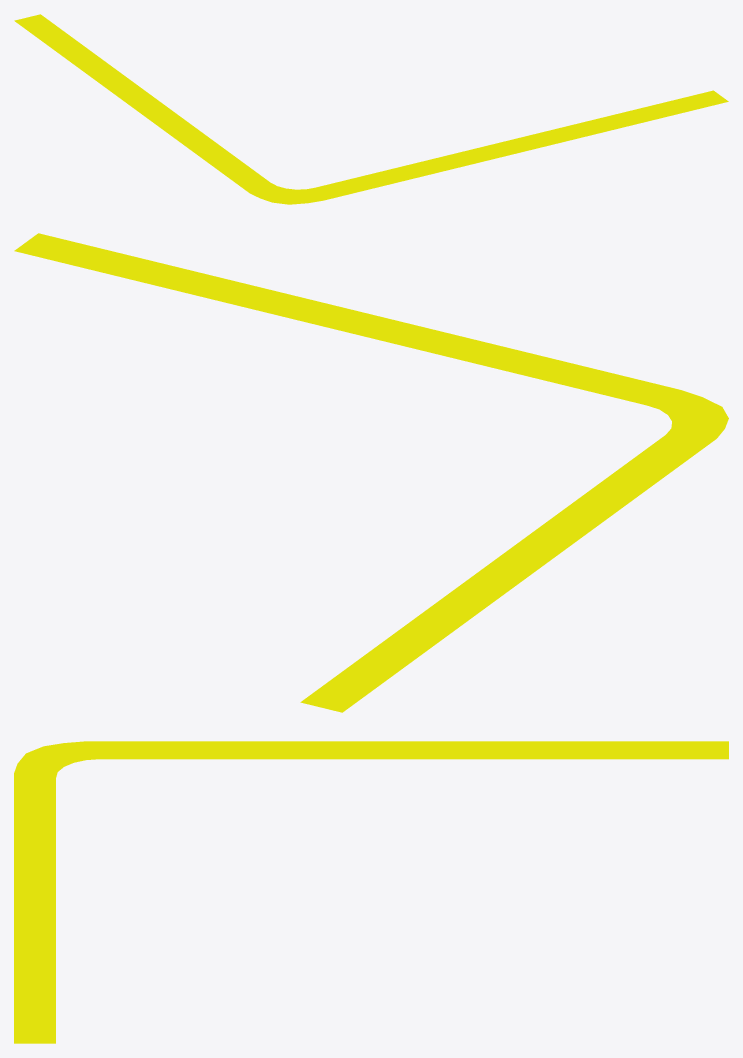
File: sidewalk-corner-flat-3m-stripe.glb
3 views of the same model, one above another, from view 1: azimuth 30°, elevation 25°; view 2: azimuth 150°, elevation 25°; view 3: azimuth 270°, elevation 25° (orthographic). The views are drawn at different scales.
Visible parts, largest first — view 1: Sidewalk_Corner_Flat_3m_Stripe; view 2: Sidewalk_Corner_Flat_3m_Stripe; view 3: Sidewalk_Corner_Flat_3m_Stripe.
Part boxes in pixels (left/top/right/bottom): Sidewalk_Corner_Flat_3m_Stripe: left=14, top=14, right=728, bottom=204; Sidewalk_Corner_Flat_3m_Stripe: left=14, top=233, right=728, bottom=712; Sidewalk_Corner_Flat_3m_Stripe: left=14, top=741, right=728, bottom=1043.
Bounding box in the file's own units: 3.4 × 0 × 3.4.
1 material, 1 textured.
